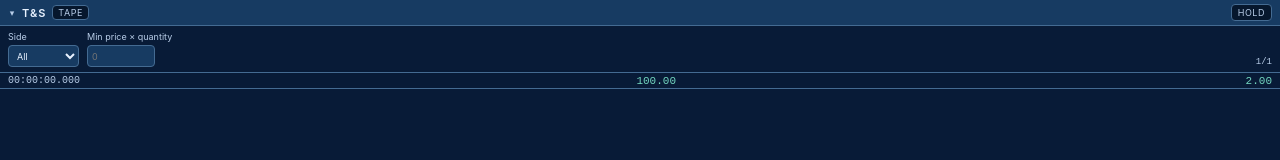
Scenario: Tape inspection controls › resets explicit hold even on a same-metadata session reset
Click the button with test id "tape-hold": (1251, 12) [1231,4,1272,21]
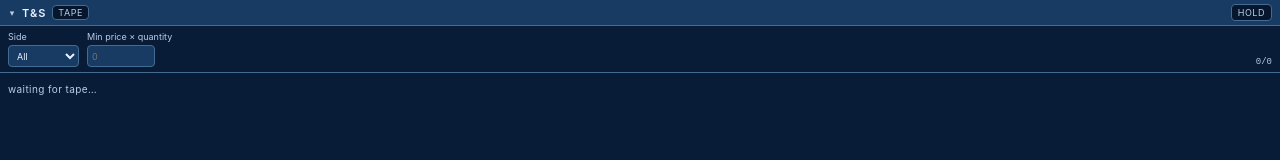
Expected: no elements with test id "tape-row" are shown
